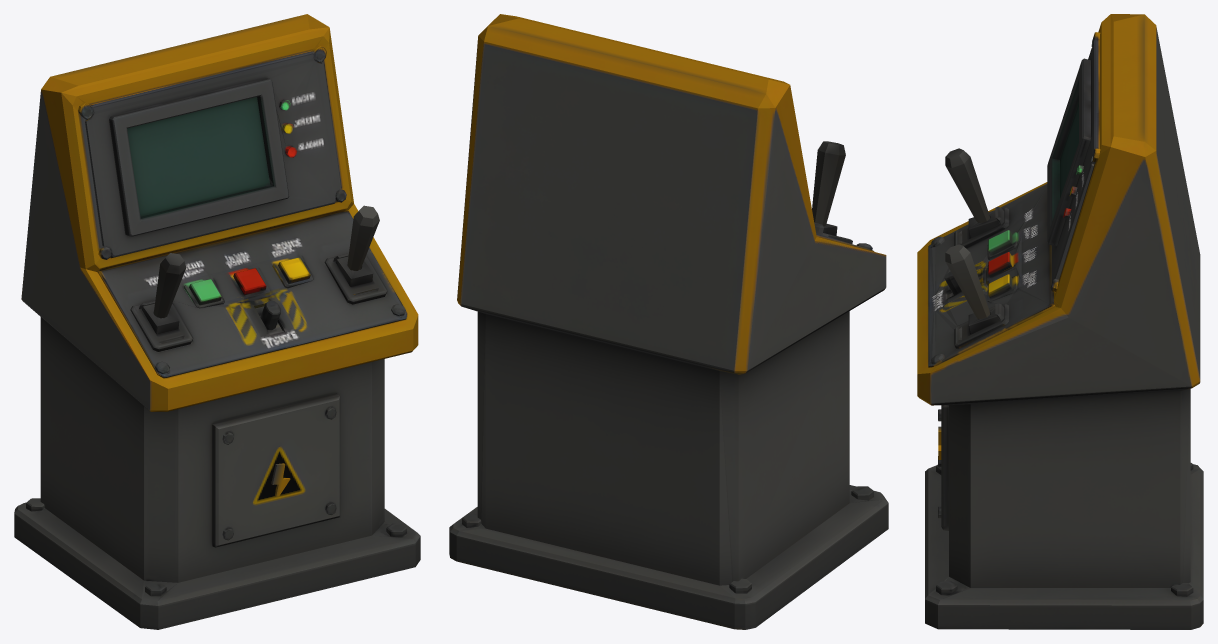
The model's file is terminal da garra.fbx.
3 views of the same model, side by side, from view 1: azimuth 30°, elevation 25°; view 2: azimuth 150°, elevation 25°; view 3: azimuth 270°, elevation 25° (orthographic). The views are drawn at different scales.
Parts seen in each view (by area): view 1: mesh_input; view 2: mesh_input; view 3: mesh_input.
Boxes of the visible parts, x1,y1,x2,y2 form: mesh_input: (14,14,420,629); mesh_input: (449,14,888,629); mesh_input: (917,14,1203,629).
Bounding box in the file's own units: 119 × 190 × 102.
Materials: 1 (1 with a texture image).
